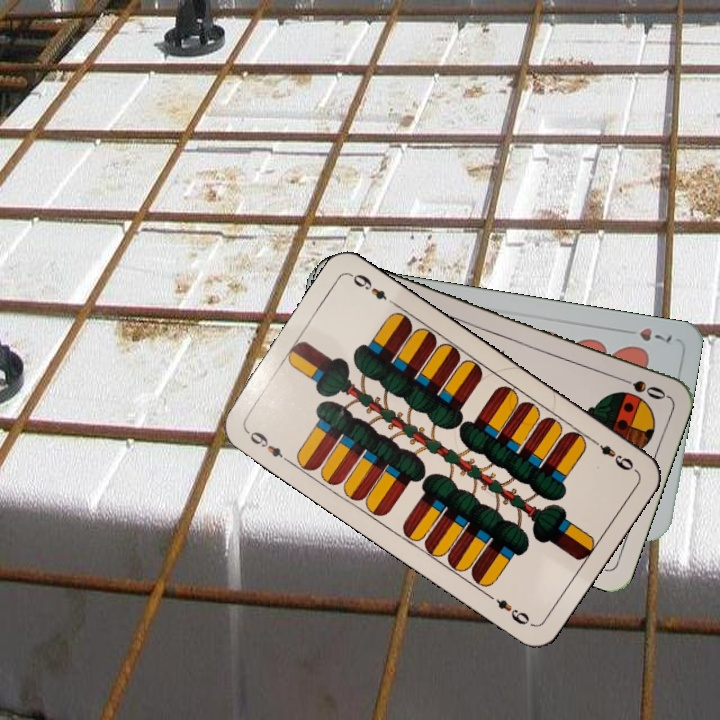E9: (241, 426, 293, 466), (587, 434, 636, 474)
H7: (618, 324, 675, 345)
SO: (612, 372, 669, 403)
